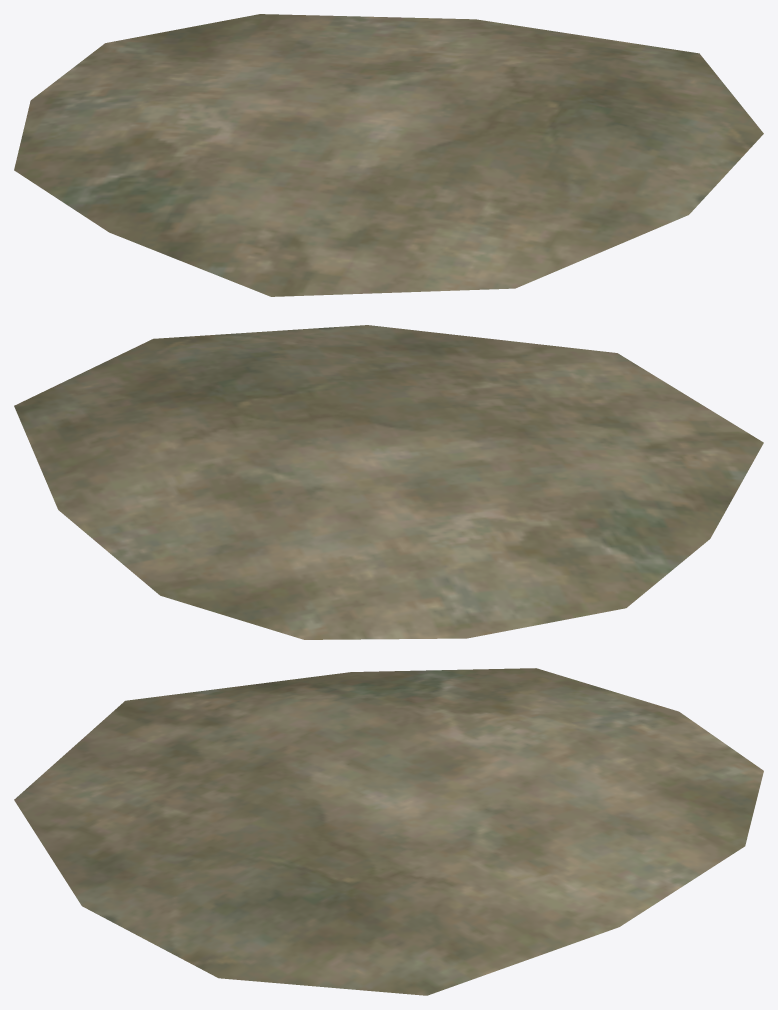
Rendered from EKH_CAVERNS_PS_CA_OBJECT31.fbx.
3 views of the same model, one above another, from view 1: azimuth 30°, elevation 25°; view 2: azimuth 150°, elevation 25°; view 3: azimuth 270°, elevation 25° (orthographic). The views are drawn at different scales.
Parts seen in each view (by area): view 1: EKH_CAVERNS_PS_CA_OBJECT31; view 2: EKH_CAVERNS_PS_CA_OBJECT31; view 3: EKH_CAVERNS_PS_CA_OBJECT31.
Boxes of the visible parts, <box> form: EKH_CAVERNS_PS_CA_OBJECT31: <box>14,14,763,296</box>; EKH_CAVERNS_PS_CA_OBJECT31: <box>14,325,763,639</box>; EKH_CAVERNS_PS_CA_OBJECT31: <box>14,668,763,995</box>.
Bounding box in the file's own units: 30666 × 915 × 29662.
Materials: 1 (1 with a texture image).
